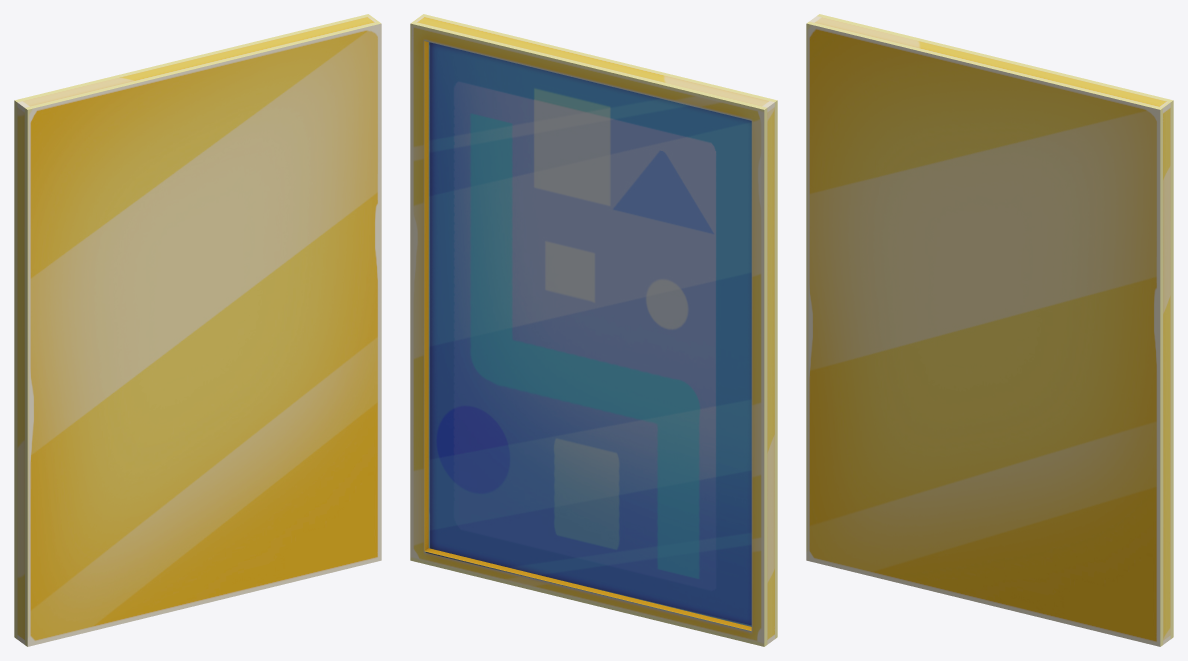
Rendered from frame_big.fbx.
The picture shows the model from 3 angles, left to right: view 1: azimuth 30°, elevation 25°; view 2: azimuth 150°, elevation 25°; view 3: azimuth 330°, elevation 25°; orthographic projection.
Parts seen in each view (by area): view 1: frame_big_mesh; view 2: frame_big_mesh; view 3: frame_big_mesh.
Part boxes in pixels (<box>): frame_big_mesh: <box>14,14,381,646</box>; frame_big_mesh: <box>410,14,777,646</box>; frame_big_mesh: <box>806,14,1173,646</box>.
Size of the model in its own units: 5.84 by 8.46 by 0.3726.
